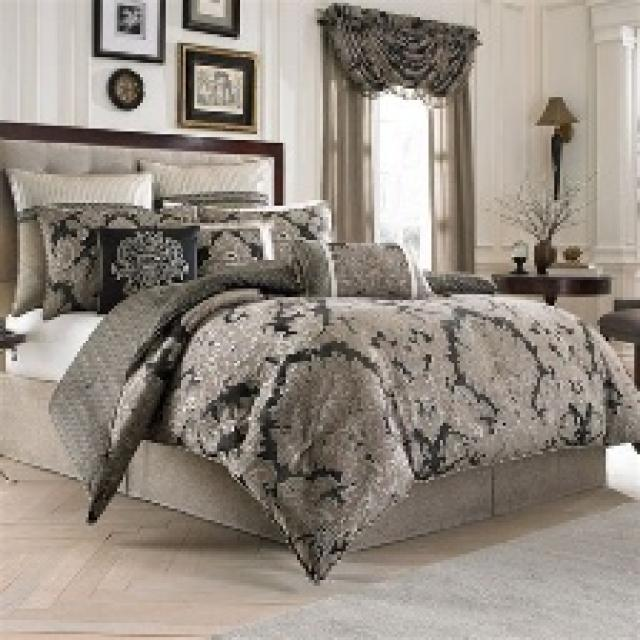Bed: (0, 114, 637, 583)
